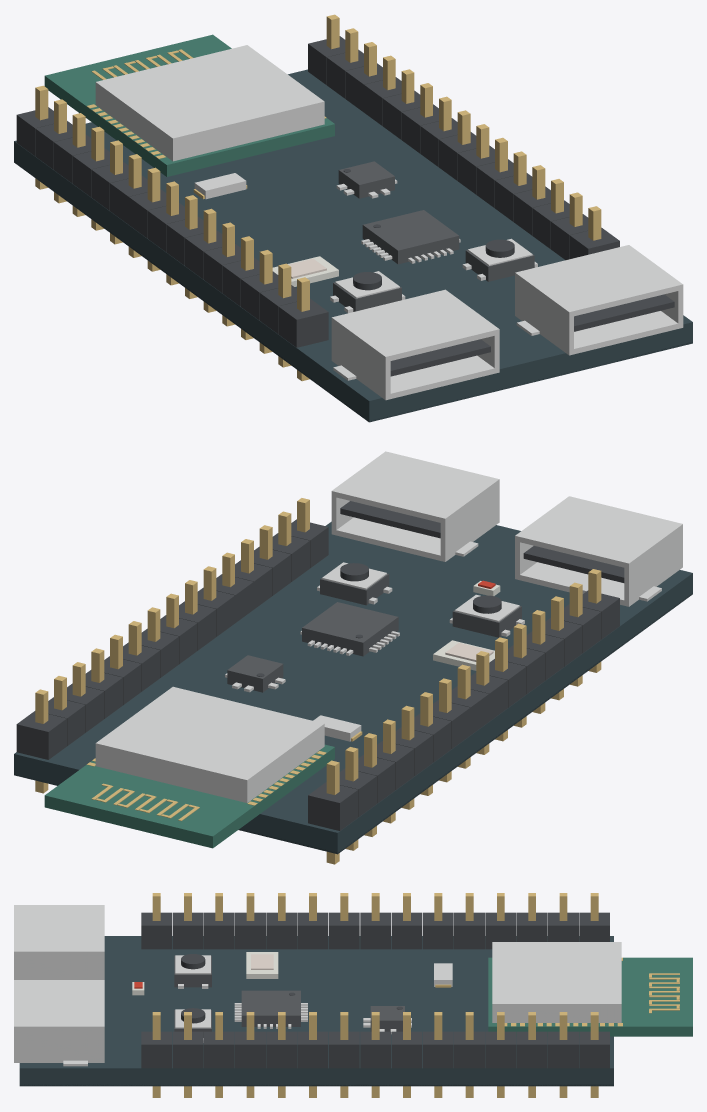
Rendered from esp32-h2-devkitm-1.glb.
3 views of the same model, one above another, from view 1: azimuth 30°, elevation 25°; view 2: azimuth 150°, elevation 25°; view 3: azimuth 270°, elevation 25° (orthographic). The views are drawn at different scales.
Parts seen in each view (by area): view 1: PCB, U4, J1, J3, J2, J4, U3, SW1, SW2, U2, D6, X1; view 2: PCB, U4, J1, J3, J4, J2, U3, SW1, SW2, U2, D6, X1; view 3: PCB, J3, J1, U4, J4, J2, U3, SW2, D6, U2, SW1, X1.
Part boxes in pixels (x1,y1,x2,y2): PCB: (14,69,692,422); U4: (44,34,334,176); J1: (16,85,328,381); J3: (308,14,619,260); J2: (331,289,499,400); J4: (515,245,683,355); U3: (361,210,460,264); SW1: (462,238,537,281); SW2: (330,271,405,313); U2: (336,161,397,198); D6: (272,256,338,286); X1: (193,173,247,199); PCB: (14,521,692,854); U4: (44,686,334,848); J1: (308,569,619,864); J3: (16,498,328,793); J4: (331,451,499,561); J2: (515,496,682,606); U3: (300,602,399,656); SW1: (317,562,392,605); SW2: (449,594,524,637); U2: (225,655,285,692); D6: (433,640,494,670); X1: (313,715,362,741); PCB: (19,936,613,1086); J3: (141,1012,609,1097); J1: (141,893,609,949); U4: (488,942,692,1036); J4: (14,980,104,1066); J2: (14,905,104,979); U3: (234,990,307,1028); SW2: (174,954,211,988); D6: (246,952,278,978); U2: (363,1006,411,1034); SW1: (174,1008,211,1042); X1: (434,963,452,987).
Size of the model in its own units: 0.0254 by 0.0074 by 0.0551.
